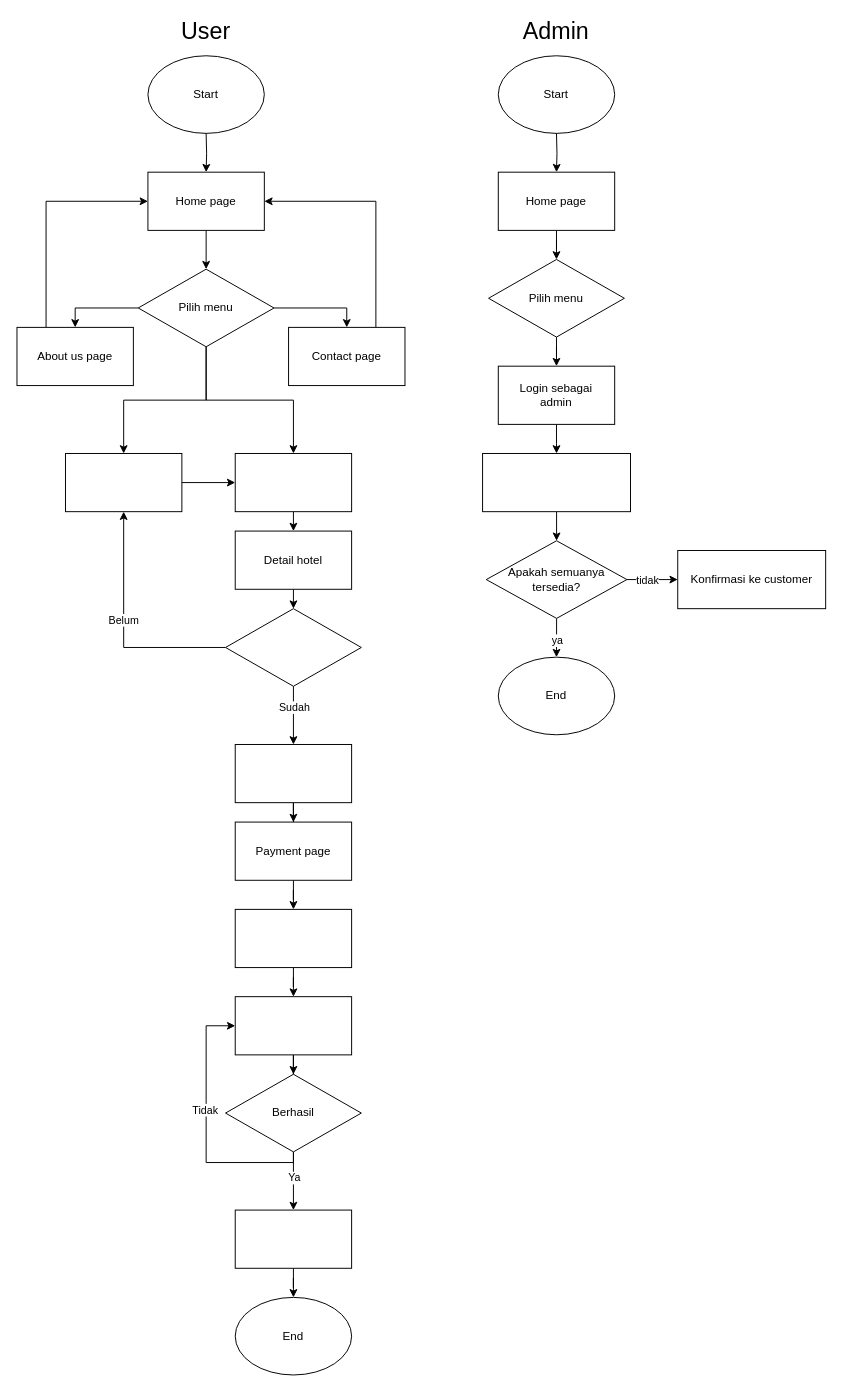
The diagram is 843 pixels wide and 1392 high, and some of its shapes have lost their labels. Each missing label, with the centre of its shape:
"Apakah sudah login?" belongs at (293,647).
"Bayar" belongs at (293,1025).
"Book now" belongs at (293,773).
"Booking Selesai" belongs at (293,1238).
"List hotel" belongs at (293,482).
"Login page" belongs at (123,482).
"Mengecek ketersediaan kamar hotel dan fasilitas yang ada" belongs at (556,482).
"Mengisi form payment" belongs at (293,938).
